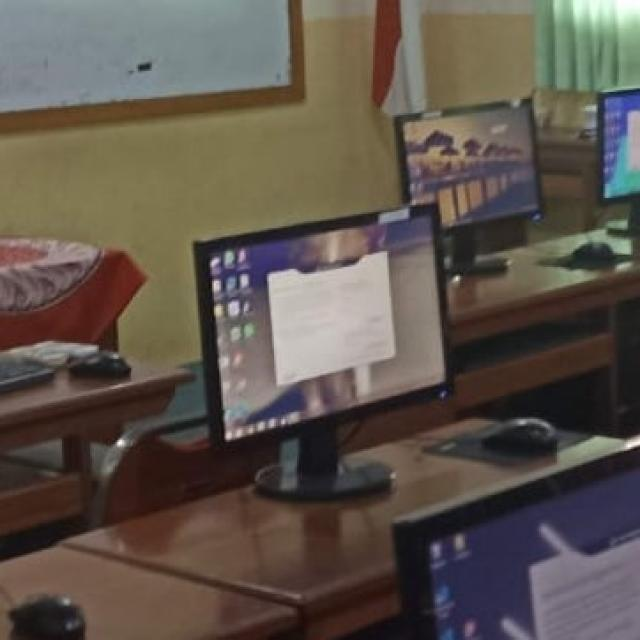onscreen: (195, 205, 450, 499), (396, 99, 541, 273), (599, 89, 640, 199)
